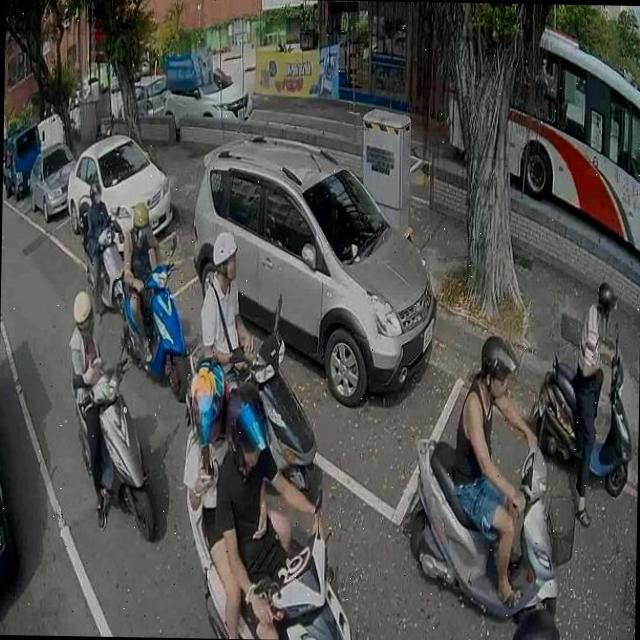person: (217, 389, 336, 640), (188, 358, 286, 640), (451, 326, 544, 614), (70, 282, 120, 530), (570, 275, 618, 529), (202, 227, 258, 393), (122, 188, 170, 364), (79, 186, 114, 314), (511, 592, 561, 640)
